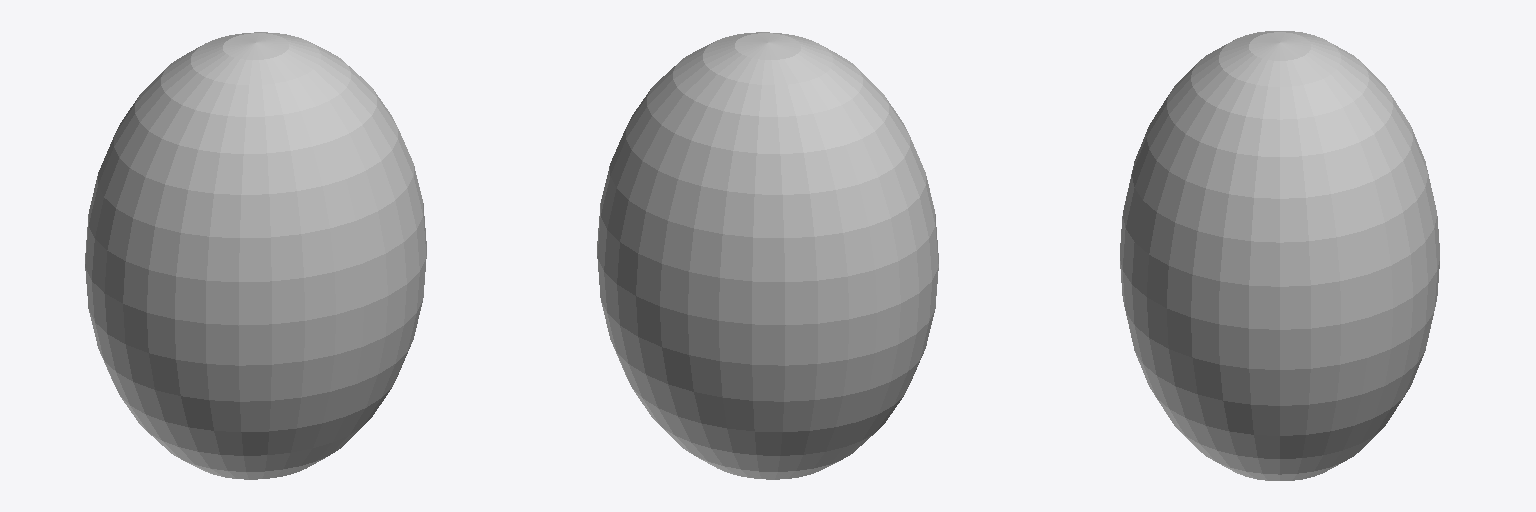
The model's file is roughHead.obj.
The picture shows the model from 3 angles: view 1: azimuth 30°, elevation 25°; view 2: azimuth 150°, elevation 25°; view 3: azimuth 270°, elevation 25°; orthographic projection.
Parts seen in each view (by area): view 1: Sphere_Sphere.001; view 2: Sphere_Sphere.001; view 3: Sphere_Sphere.001.
Part boxes in pixels (x1,y1,x2,y2): Sphere_Sphere.001: (85,32,426,479); Sphere_Sphere.001: (597,32,938,479); Sphere_Sphere.001: (1120,31,1439,480).
Bounding box in the file's own units: 0.4463 × 0.6005 × 0.4092.